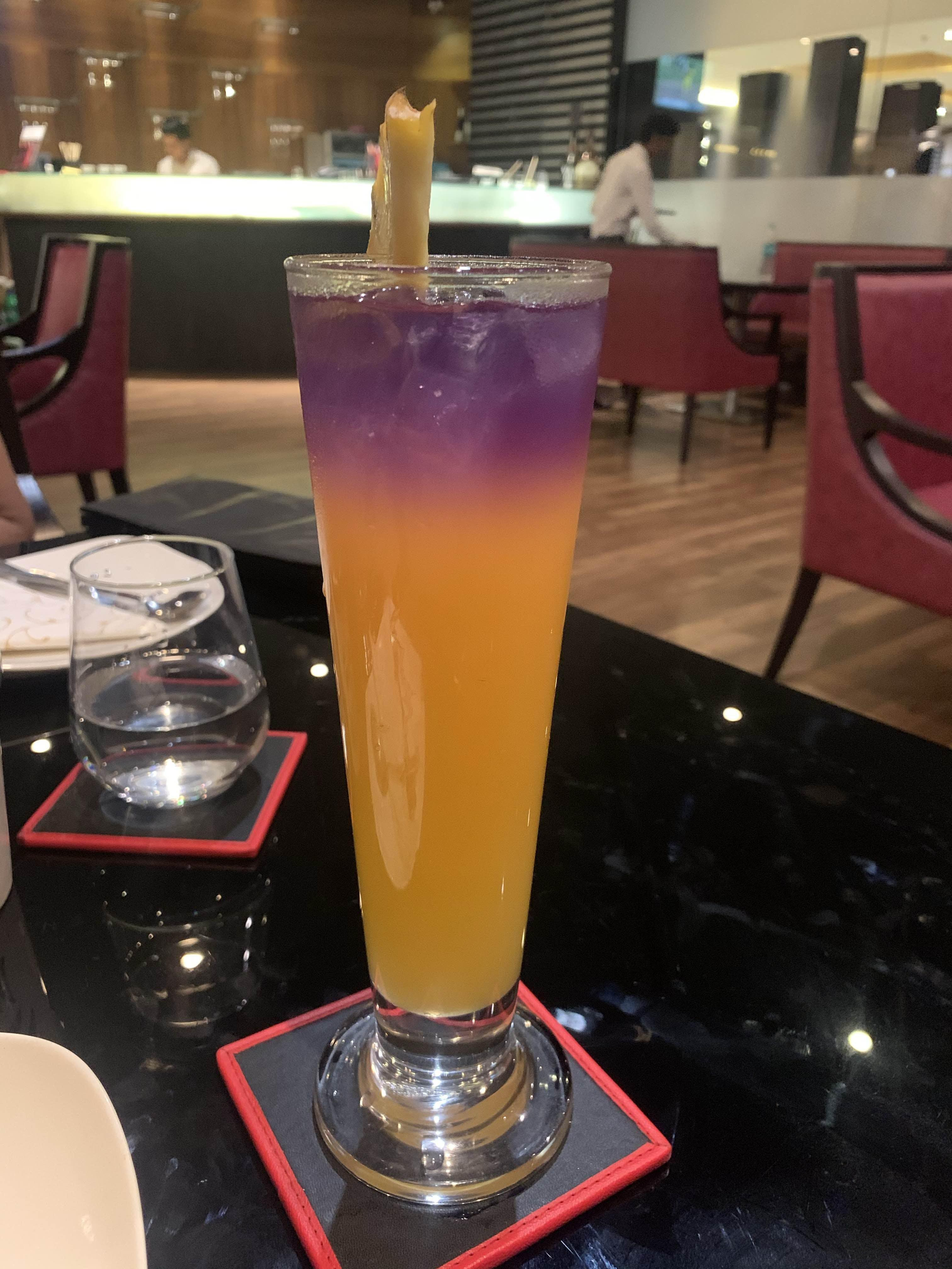glass-normal: (65, 532, 273, 810)
glass-wine: (280, 249, 616, 1210)
